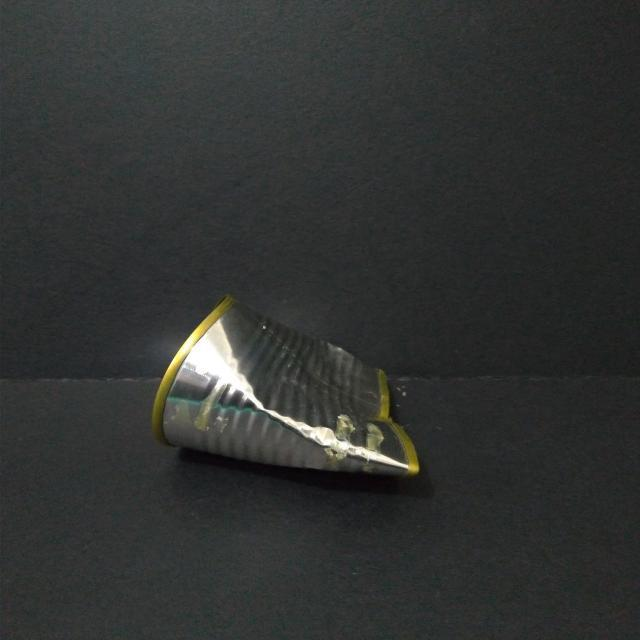metal-can: (146, 292, 428, 486)
